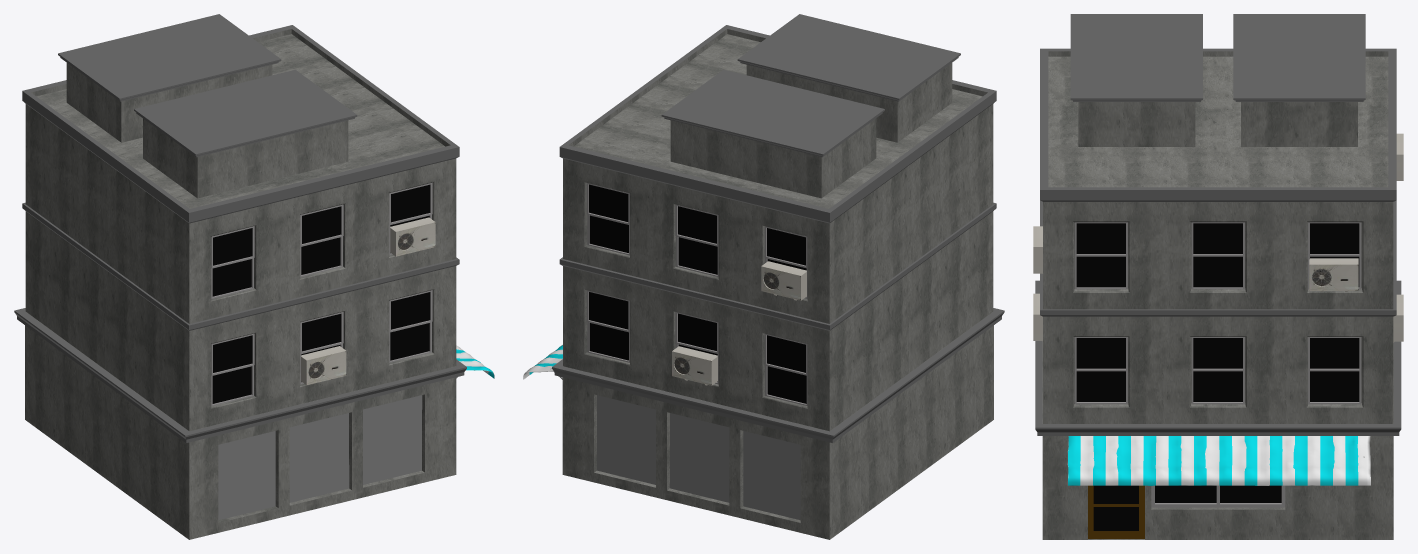
The model's file is Building 5.fbx.
3 views of the same model, side by side, from view 1: azimuth 30°, elevation 25°; view 2: azimuth 150°, elevation 25°; view 3: azimuth 270°, elevation 25° (orthographic). The views are drawn at different scales.
Visible parts, largest first — view 1: Cube.056, Building 4 (1).004, Cube.055, Cube.060, Cube.061, Cube.071, Cube.069, Cube.062, Cube.070, Aircon3.010, Aircon3.009; view 2: Cube.056, Building 4 (1).004, Cube.055, Cube.064, Cube.063, Cube.072, Cube.074, Cube.065, Cube.073, Aircon3.007, Aircon3.008; view 3: Cube.056, Cube.055, Building 4 (1).004, Plane.002, Cube.057, Cube.058, Cube.066, Cube.067, Cube.068, Building 4 (1).005, Cube.059, Aircon3.006 (+2 smaller).
Boxes of the visible parts, box(x1,y1,x2,y2) form: Cube.056: box(22, 14, 459, 323); Building 4 (1).004: box(14, 308, 466, 539); Cube.055: box(22, 202, 459, 431); Cube.060: box(211, 226, 254, 298); Cube.061: box(300, 204, 343, 277); Cube.071: box(389, 290, 432, 362); Cube.069: box(211, 333, 254, 406); Cube.062: box(389, 182, 432, 255); Cube.070: box(300, 312, 343, 384); Aircon3.010: box(390, 217, 435, 256); Aircon3.009: box(301, 346, 346, 385); Cube.056: box(559, 14, 996, 323); Building 4 (1).004: box(552, 308, 1004, 539); Cube.055: box(559, 202, 996, 431); Cube.064: box(675, 204, 718, 276); Cube.063: box(586, 183, 629, 255); Cube.072: box(586, 290, 629, 362); Cube.074: box(764, 333, 807, 405); Cube.065: box(764, 226, 807, 298); Cube.073: box(675, 312, 718, 384); Aircon3.007: box(672, 346, 717, 385); Aircon3.008: box(761, 261, 806, 300); Cube.056: box(1040, 14, 1396, 309); Cube.055: box(1040, 200, 1396, 423); Building 4 (1).004: box(1035, 280, 1401, 539); Plane.002: box(1067, 436, 1370, 485); Cube.057: box(1074, 222, 1127, 289); Cube.058: box(1191, 222, 1244, 289); Cube.066: box(1074, 337, 1127, 404); Cube.067: box(1191, 337, 1244, 404); Cube.068: box(1308, 337, 1361, 404); Building 4 (1).005: box(1088, 485, 1144, 538); Cube.059: box(1308, 222, 1361, 289); Aircon3.006: box(1309, 258, 1358, 291).
Bounding box in the file's own units: 1829 × 1999 × 1689.
Materials: 11 (3 with a texture image).
